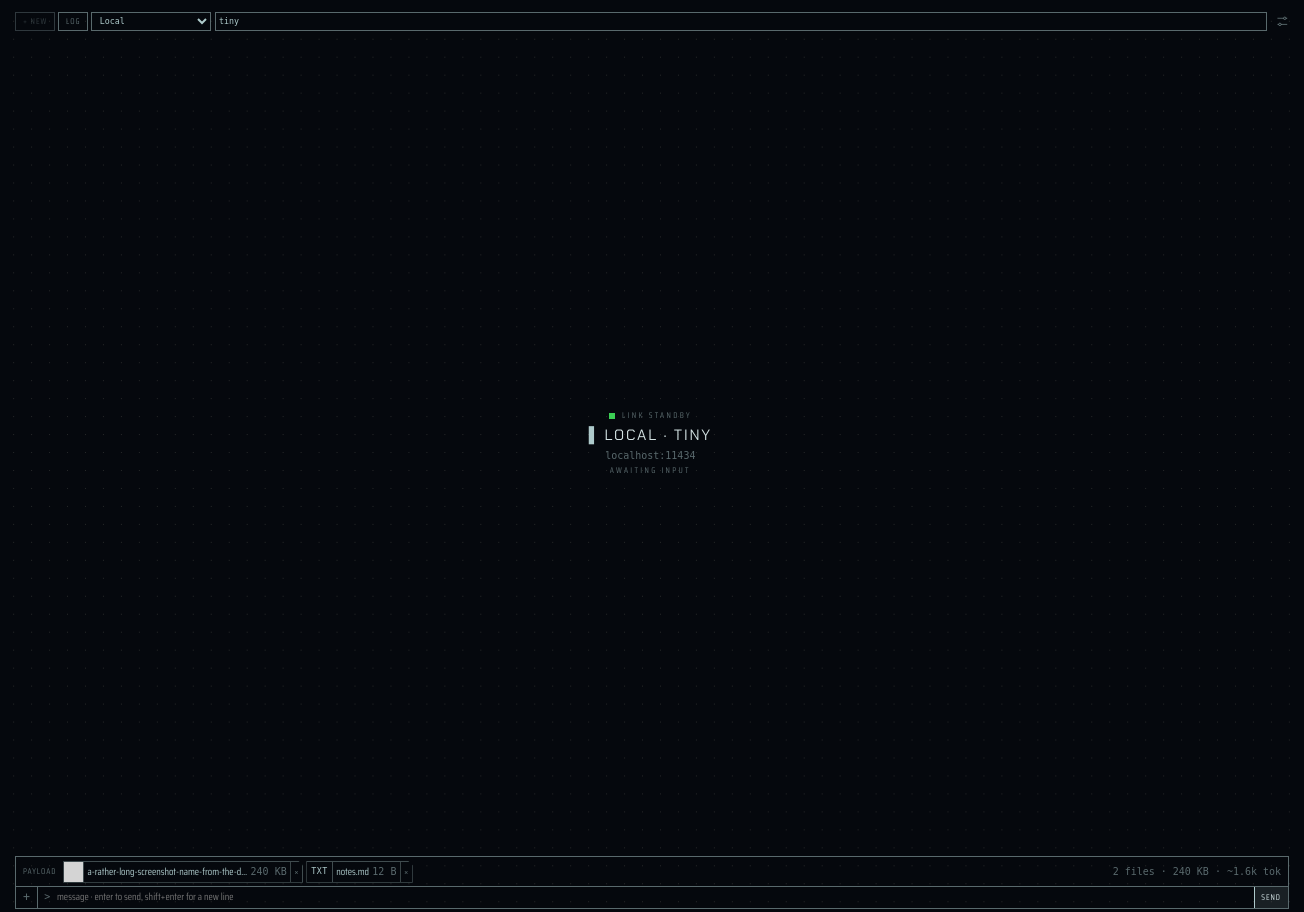
it: AiChatWidget files › leaves a file out with its ×
Click the 1st button with test id "aichat-chip-remove".
click(296, 872)  # box [290,862,302,882]
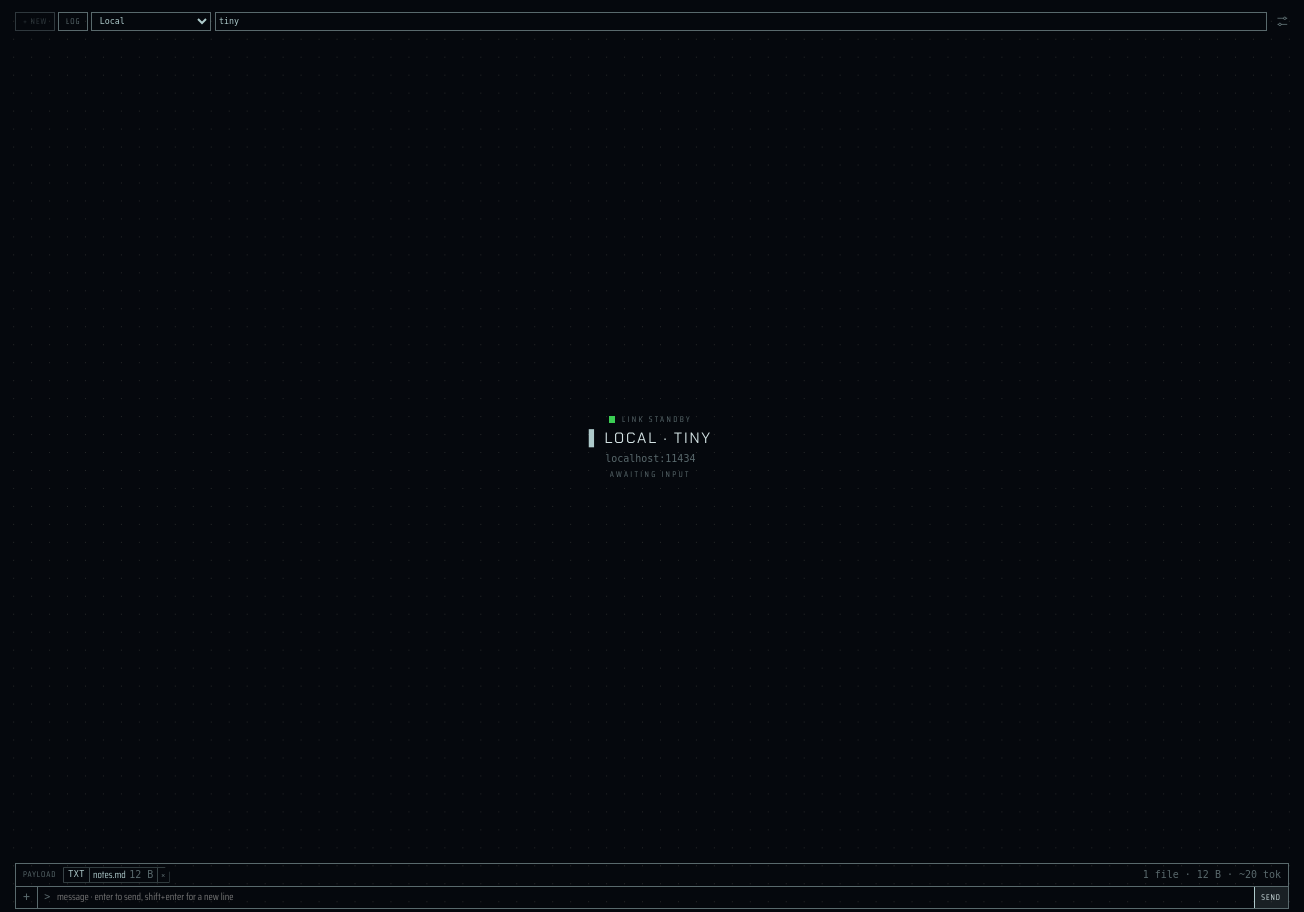
Expected: the number of list items with test id "aichat-chip" is 1, [63,867,170,883]
